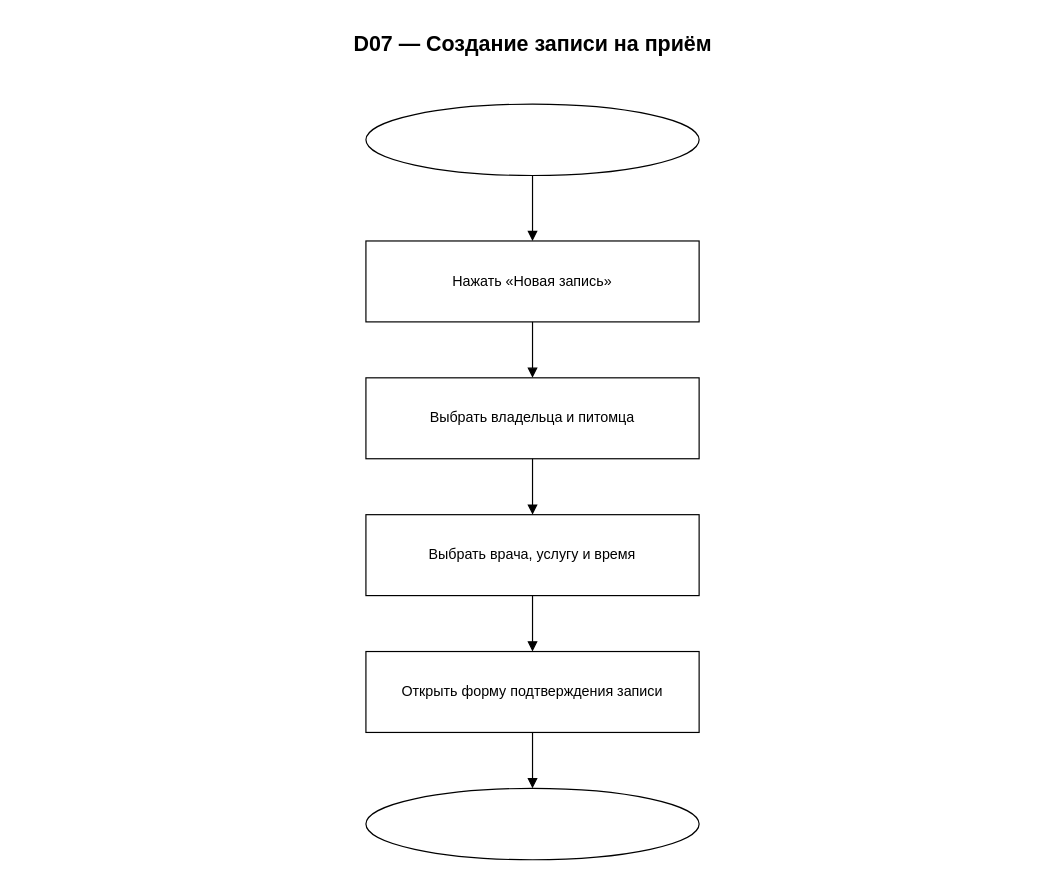
The diagram is 1064 pixels wide and 881 high, and some of its shapes have lost their labels. The shapes that lost their labels are listed below. From the top down, each one's centre as x and y in pixels, then its label:
(532,139): Начало: раздел расписания
(532,823): Конец
